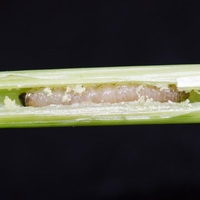insect: (0, 64, 199, 126), (19, 83, 189, 106)
